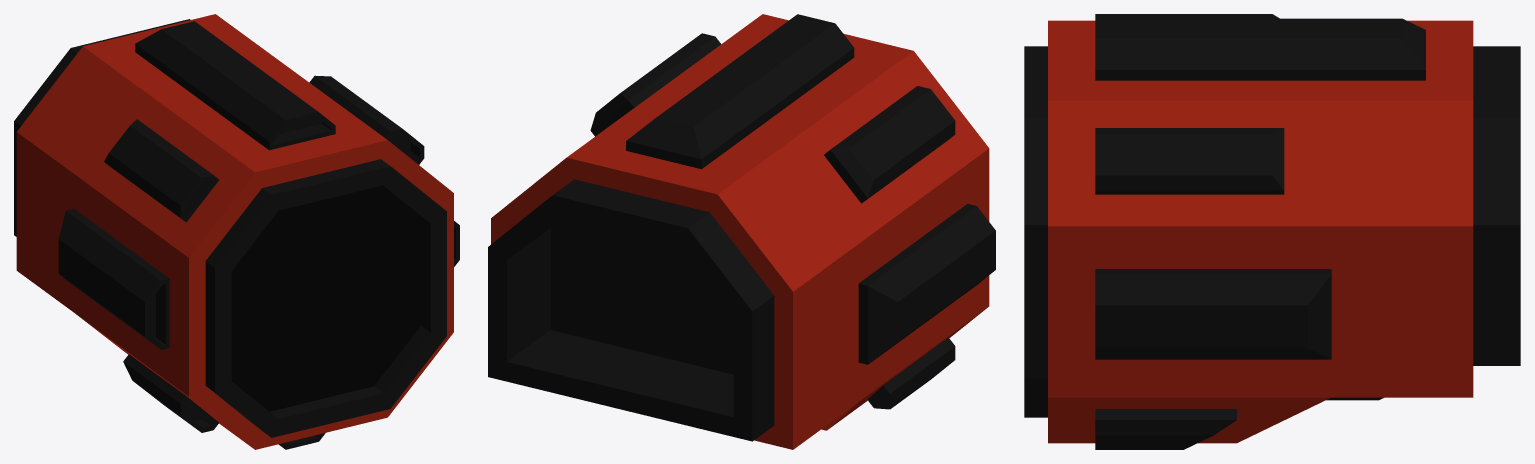
The model's file is HeroModel.FBX.
3 renders of one model, left to right at view 1: azimuth 30°, elevation 25°; view 2: azimuth 150°, elevation 25°; view 3: azimuth 270°, elevation 25°, orthographic. The views are drawn at different scales.
Visible parts, largest first — view 1: Body; view 2: Body; view 3: Body.
Part boxes in pixels (box(x1,y1,x2,y2)): Body: box(14, 14, 459, 449); Body: box(488, 14, 995, 449); Body: box(1024, 14, 1520, 449).
Bounding box in the file's own units: 1900 × 1900 × 2100.
